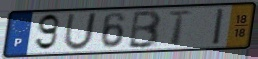6: (100, 11, 127, 50)
9: (32, 13, 62, 53)
B: (126, 9, 163, 50)
I: (212, 7, 226, 46)
T: (167, 10, 194, 47)
U: (62, 12, 99, 52)
